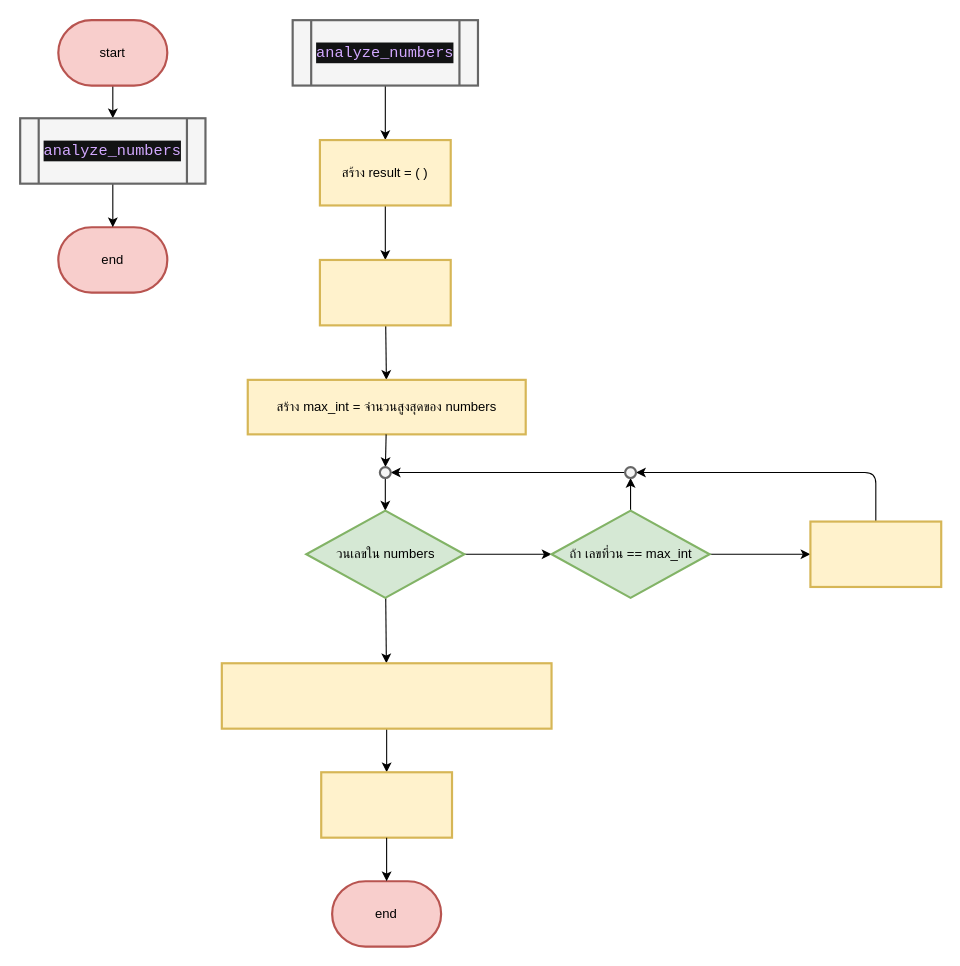
Image size: 960x966. Some labels were removed from this diagram. Here are the shapes that lost their labels. From the top down, the box of each, then its label:
(318, 258, 451, 326): สร้างตัวนับ count = 0
(809, 520, 942, 588): count + 1
(220, 662, 552, 729): result += (จำนวนตำสุดของnumber, max_int, count
(320, 771, 453, 838): return result
